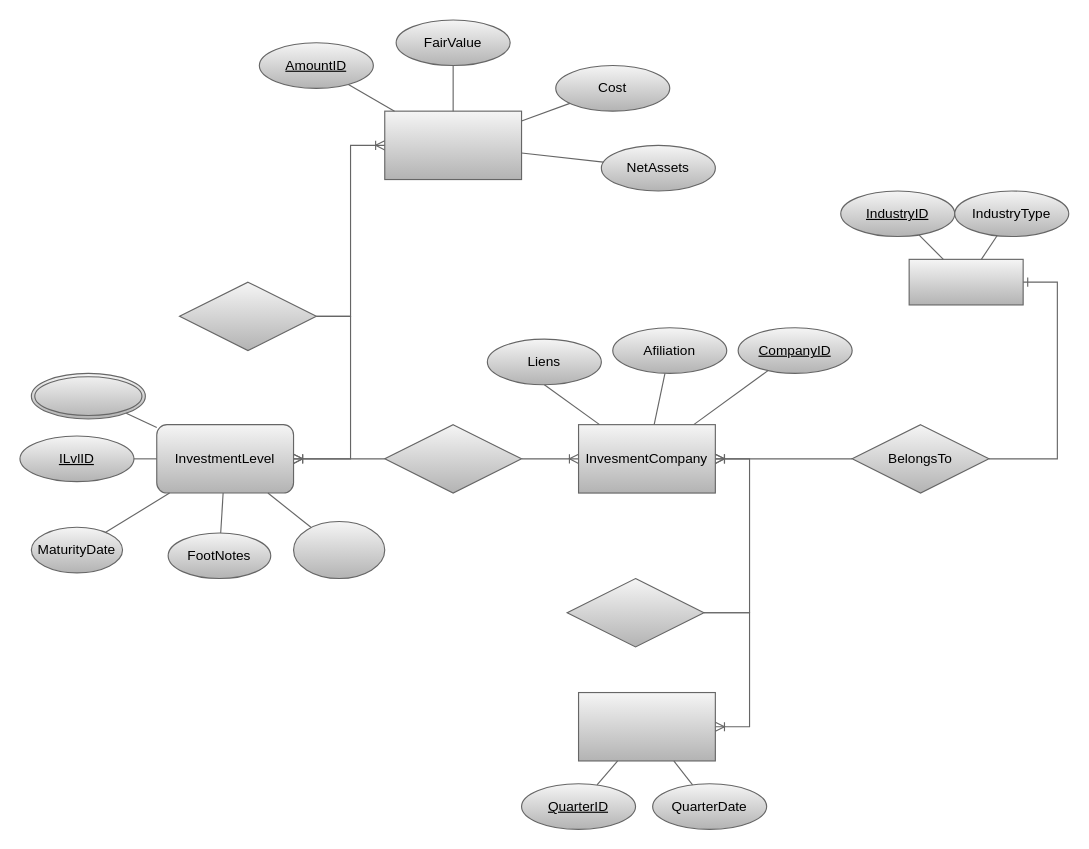
This 1089x849 diagram has some shape labels left out. Here are the shapes that lost their labels. From the top down, the box of each, then its label:
(384, 110, 522, 180): Amount
(908, 258, 1023, 305): Industry
(178, 281, 316, 351): Has
(30, 372, 145, 419): BaseType
(384, 424, 522, 493): Signifies
(292, 520, 385, 579): InterestRate
(566, 577, 704, 647): Investing
(577, 691, 715, 761): Quarter
